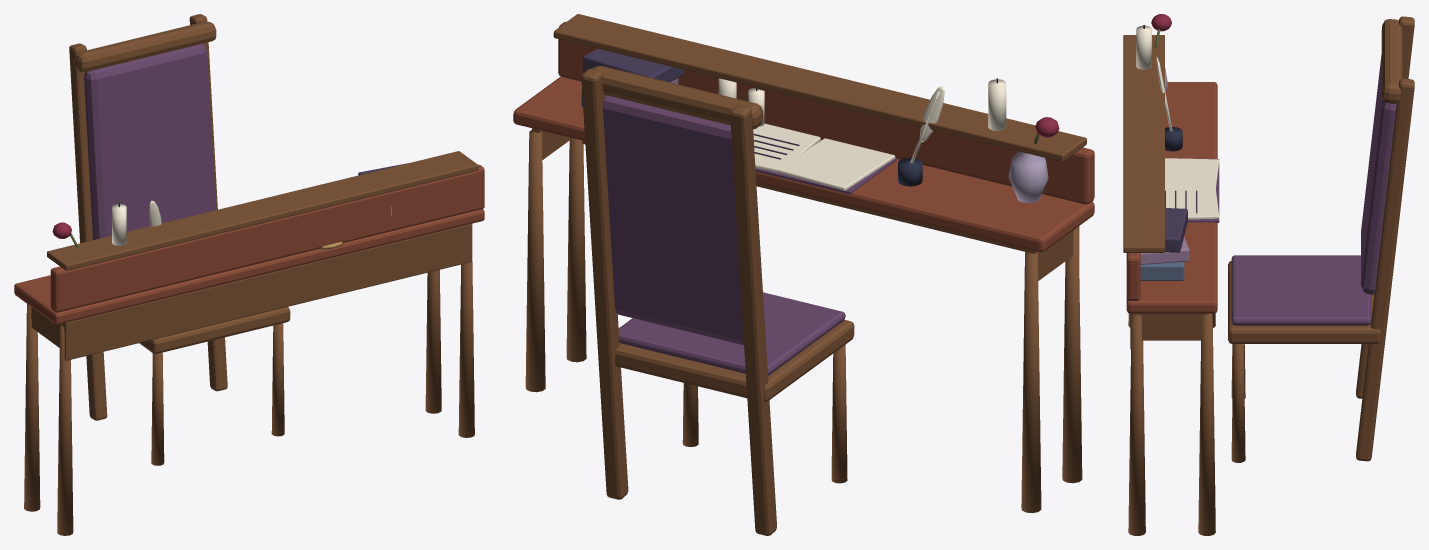
File: journalDesk.glb
The picture shows the model from 3 angles, left to right: view 1: azimuth 30°, elevation 25°; view 2: azimuth 150°, elevation 25°; view 3: azimuth 270°, elevation 25°; orthographic projection. The views are drawn at different scales.
Parts seen in each view (by area): view 1: body; view 2: body; view 3: body.
Boxes of the visible parts, <box> form: body: <box>14,14,484,535</box>; body: <box>513,14,1094,535</box>; body: <box>1123,14,1414,535</box>.
Size of the model in its own units: 1.5 by 1.2 by 0.834.
